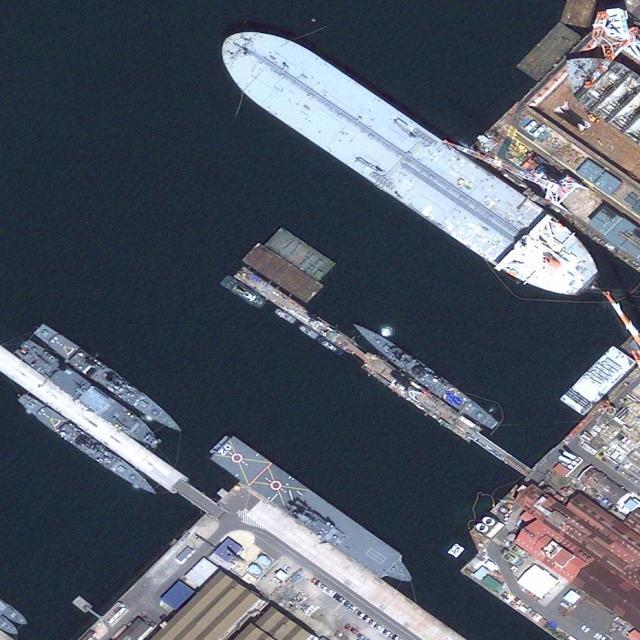Destroyer: (32, 320, 187, 440), (347, 320, 501, 433), (16, 390, 160, 500)
Dock: (231, 264, 535, 476)
Landing: (207, 431, 422, 590)
Oil Tanker: (205, 6, 614, 318)
